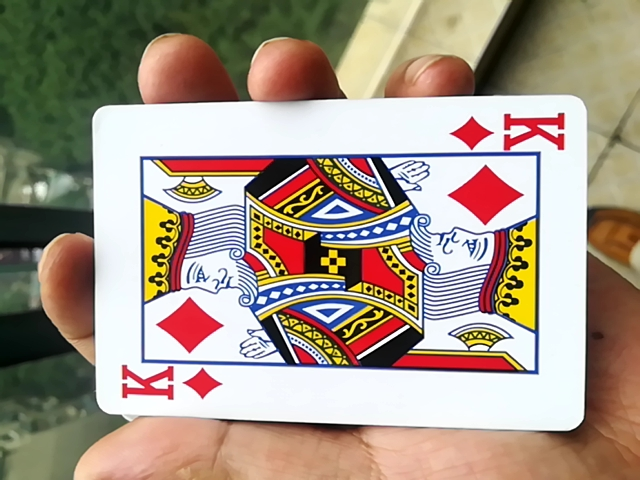fk k: (79, 102, 581, 438)
